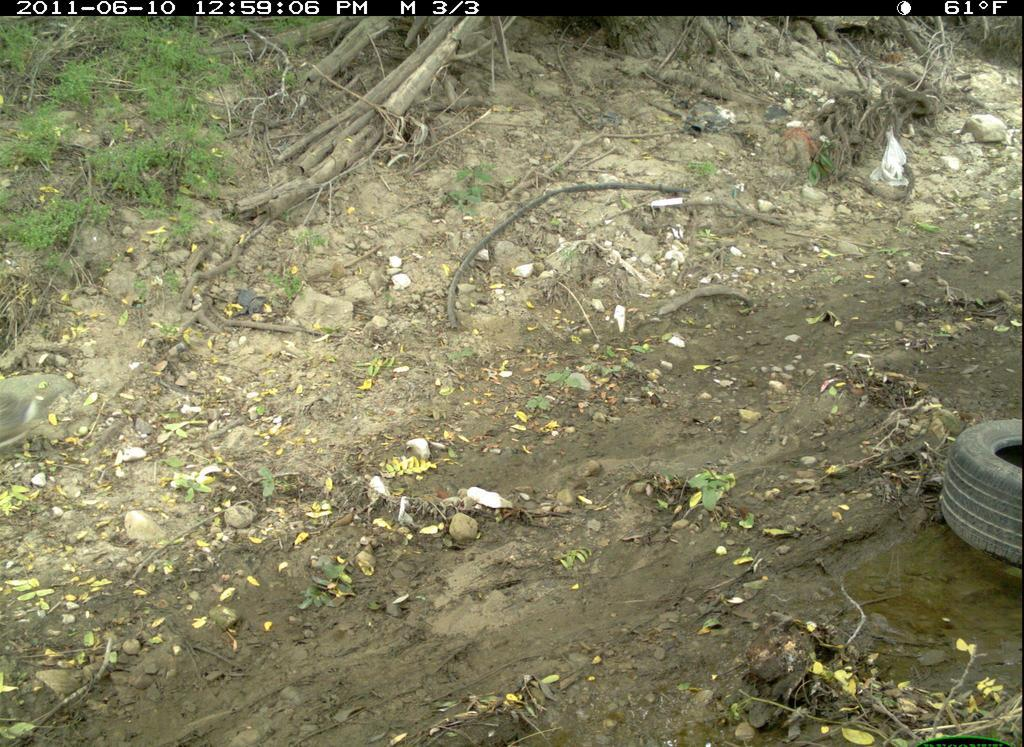rabbit: (1, 384, 49, 460)
